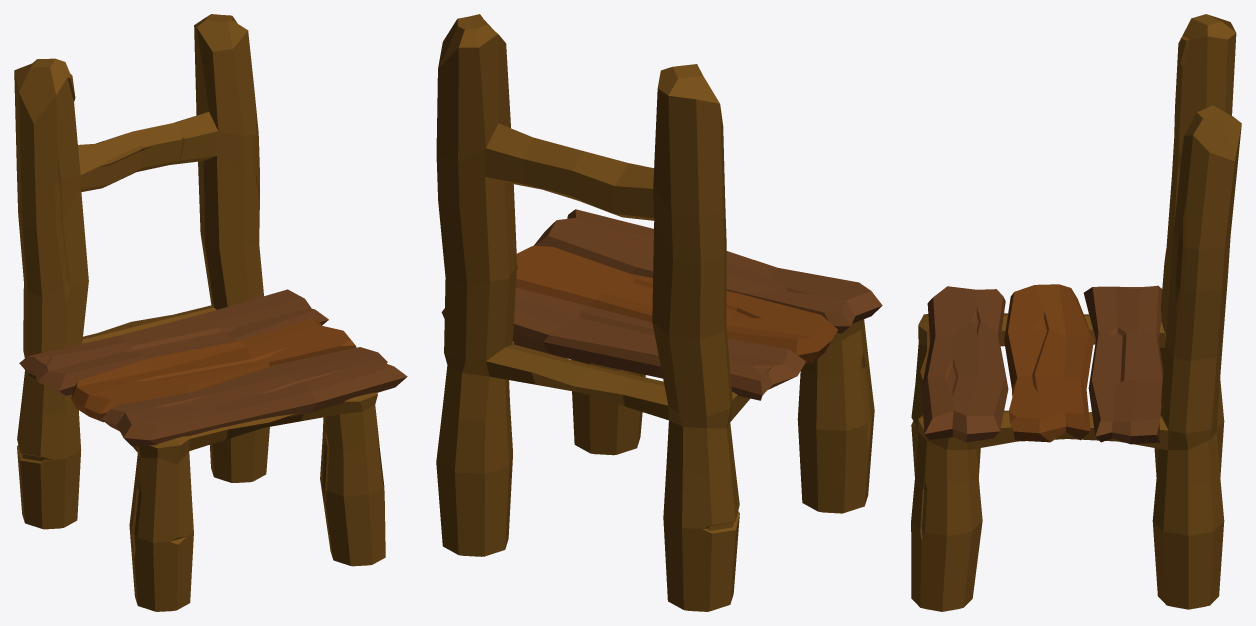
The model's file is Chair.fbx.
3 views of the same model, side by side, from view 1: azimuth 30°, elevation 25°; view 2: azimuth 150°, elevation 25°; view 3: azimuth 270°, elevation 25° (orthographic). The views are drawn at different scales.
Visible parts, largest first — view 1: Chair, PlankFrontBack, PlankMid; view 2: Chair, PlankFrontBack, PlankMid; view 3: Chair, PlankFrontBack, PlankMid.
Part boxes in pixels (bbox=[...]): Chair: bbox=[14, 14, 385, 611]; PlankFrontBack: bbox=[19, 289, 407, 446]; PlankMid: bbox=[71, 318, 356, 422]; Chair: bbox=[436, 14, 874, 611]; PlankFrontBack: bbox=[441, 209, 882, 400]; PlankMid: bbox=[516, 245, 837, 363]; Chair: bbox=[911, 14, 1241, 611]; PlankFrontBack: bbox=[921, 285, 1163, 444]; PlankMid: bbox=[1004, 284, 1093, 442].
Size of the model in its own units: 72.33 by 110 by 68.45.
